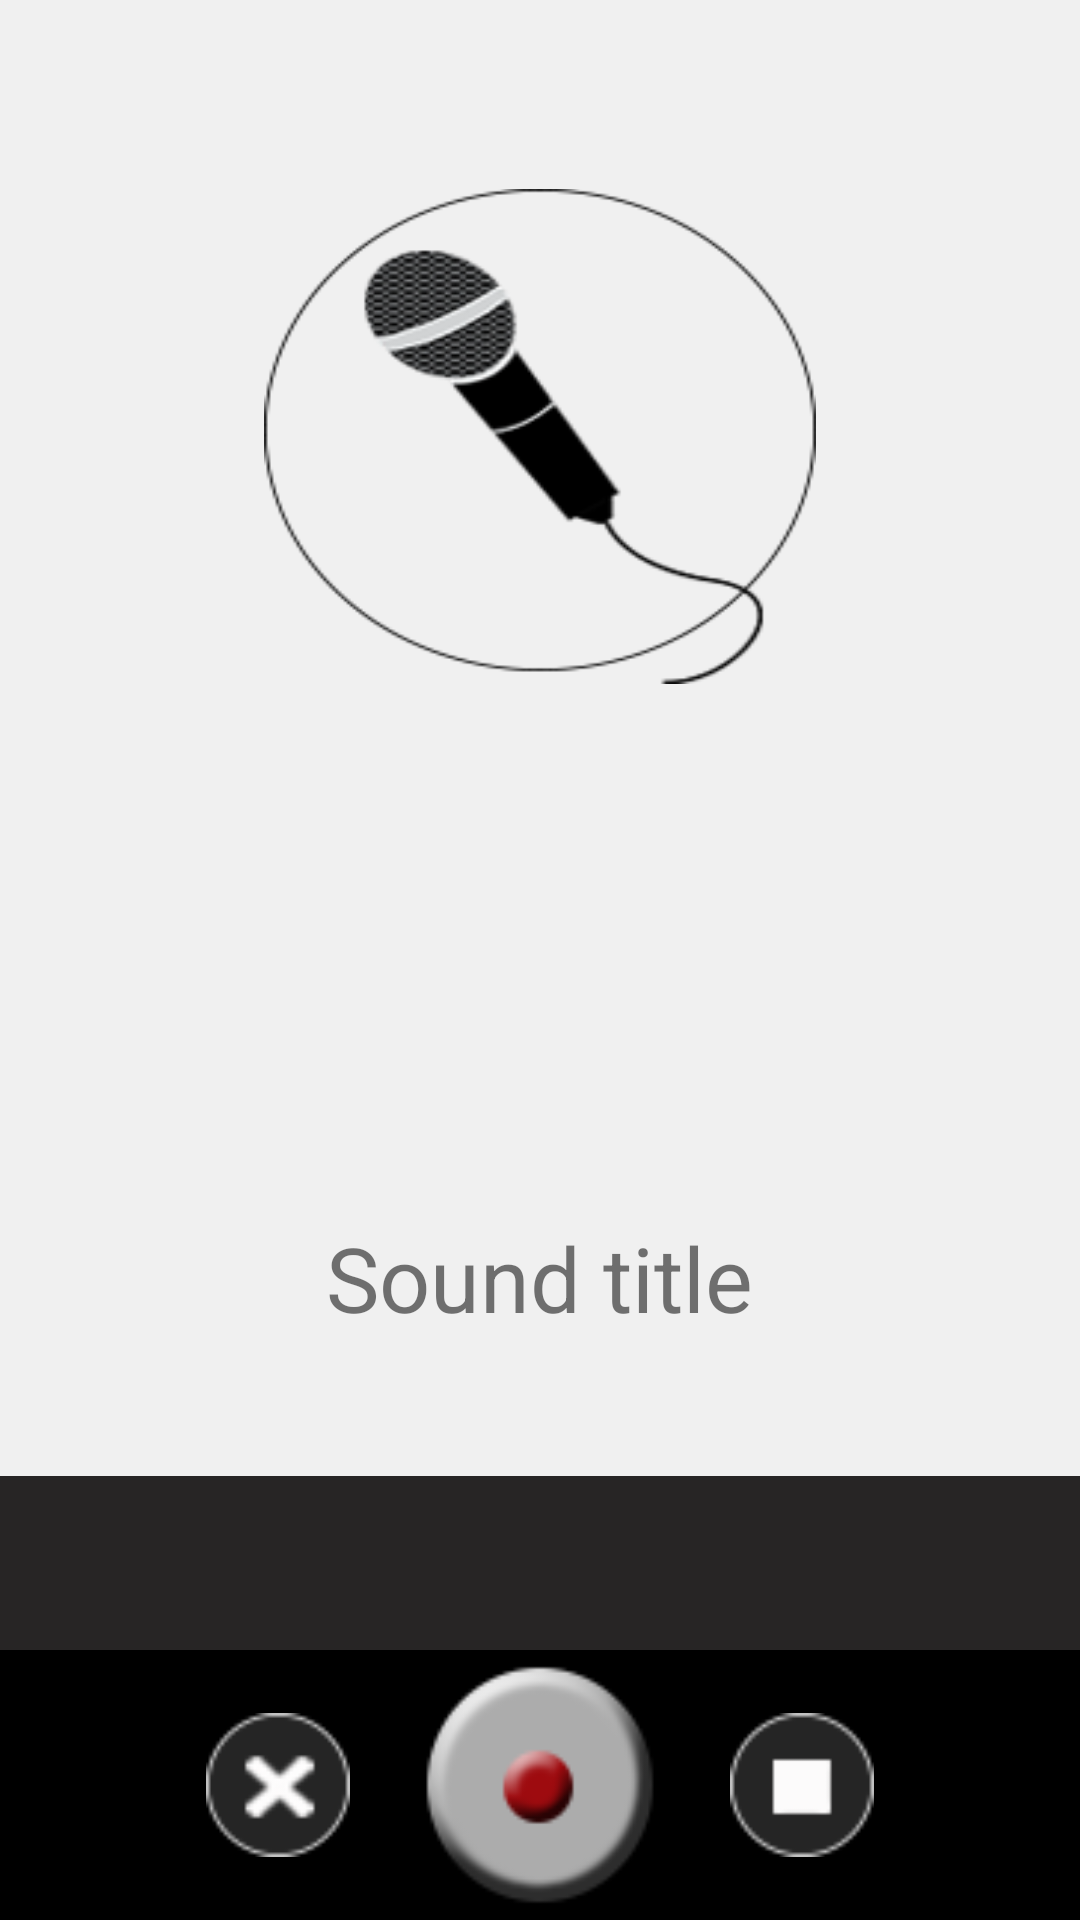

Icons on this 1080*1920 Android screen, each with its box as (x1, y1, x2, y2):
record cancel: (206, 1713, 350, 1857)
record start: (426, 1667, 653, 1902)
